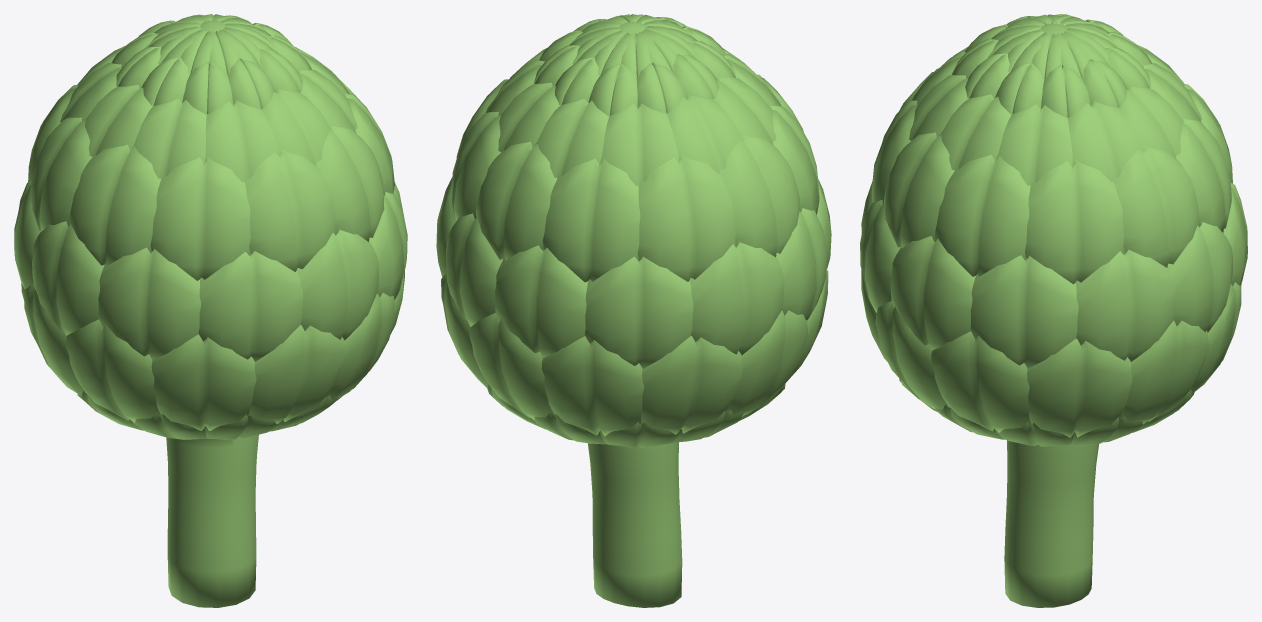
Rendered from Artichoke.fbx.
3 views of the same model, side by side, from view 1: azimuth 30°, elevation 25°; view 2: azimuth 150°, elevation 25°; view 3: azimuth 270°, elevation 25° (orthographic).
Parts seen in each view (by area): view 1: Artichoke; view 2: Artichoke; view 3: Artichoke.
Boxes of the visible parts, <box> form: Artichoke: <box>14,14,407,607</box>; Artichoke: <box>436,14,831,607</box>; Artichoke: <box>860,14,1247,607</box>.
Bounding box in the file's own units: 15.01 × 24.23 × 14.71.
